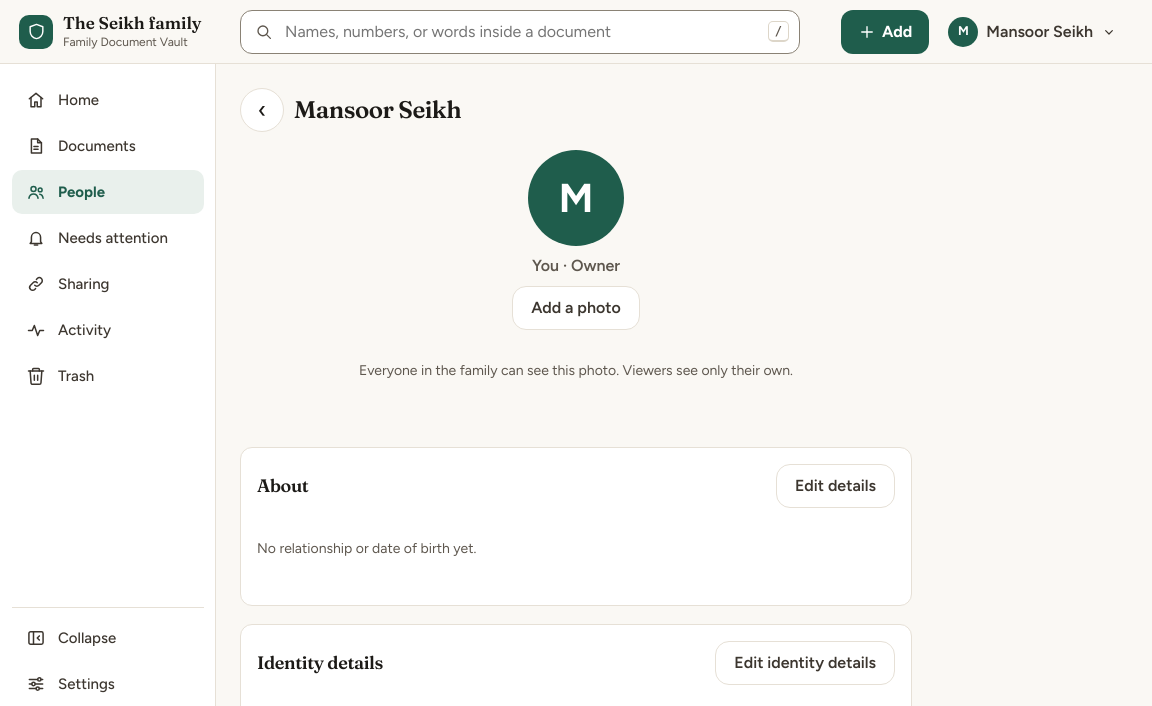
Test case: a person's identity details (5.27) › each part is written from the version it was read at: a save elsewhere meanwhile is a 409, not written over (C527-01)
Click the button "Edit identity details" at x=805, y=663, box [715,641,895,685]
(page scrolled)
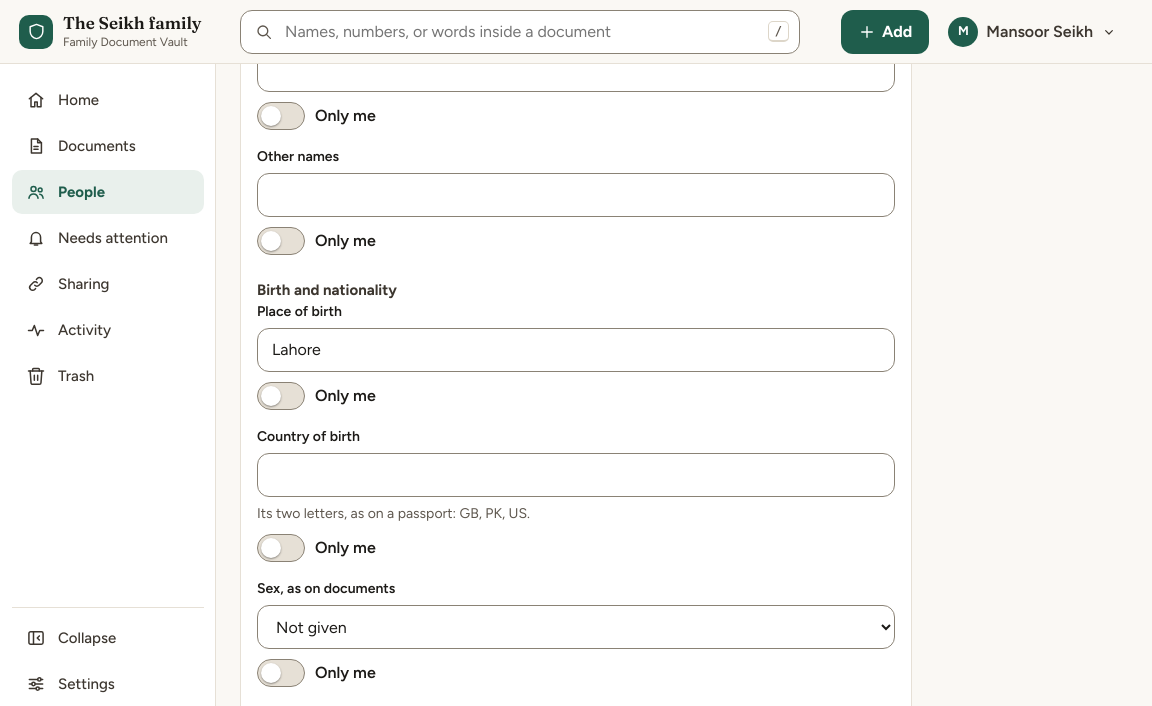
Click the switch named "Only me: Place of birth" at x=281, y=396, box [257,382,305,410]
(page scrolled)
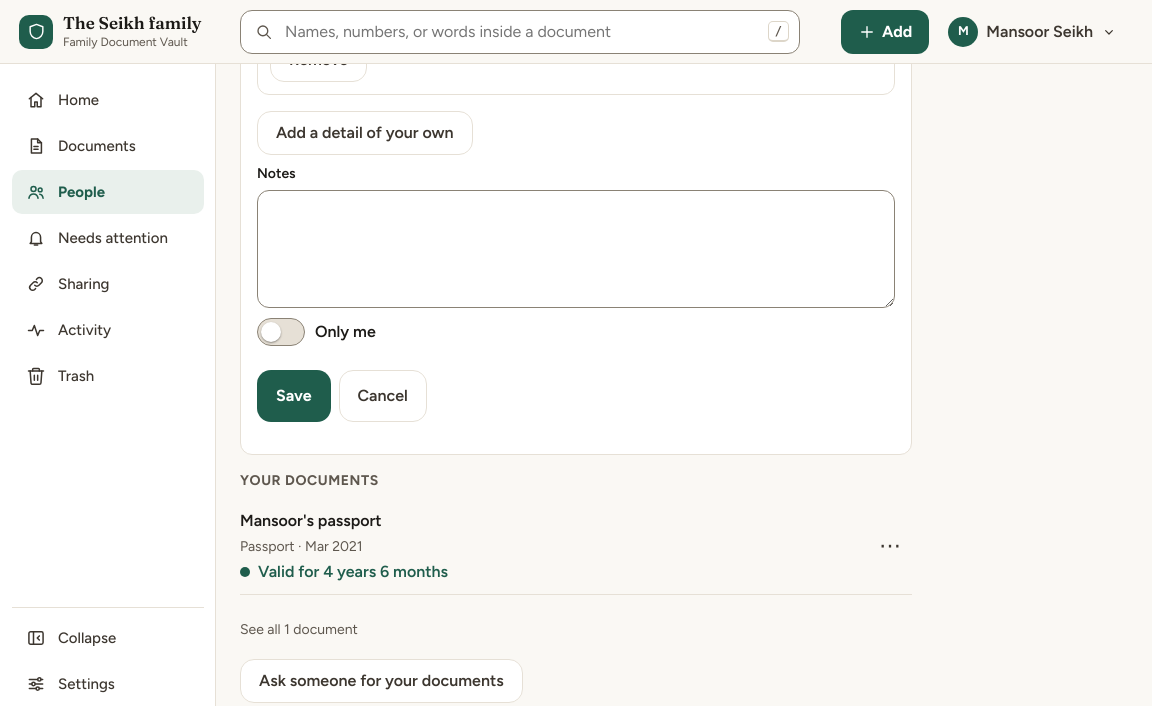
Click the button "Save" at x=294, y=396, box [257,370,330,422]
(page scrolled)
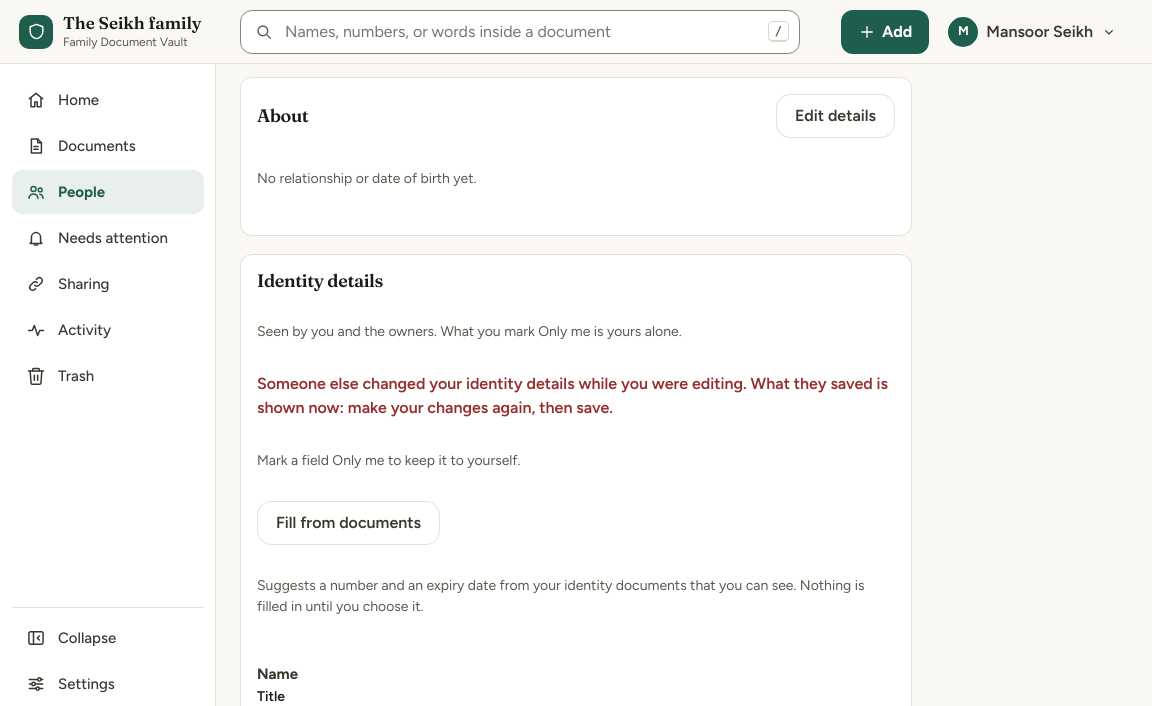
Now the message shows "Someone else changed your identity details", box [257,374,888,417]
